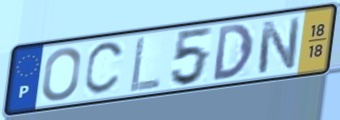5: (170, 25, 217, 88)
C: (82, 39, 128, 98)
D: (212, 21, 256, 83)
L: (127, 34, 163, 94)
N: (255, 15, 302, 76)
O: (40, 45, 83, 103)
